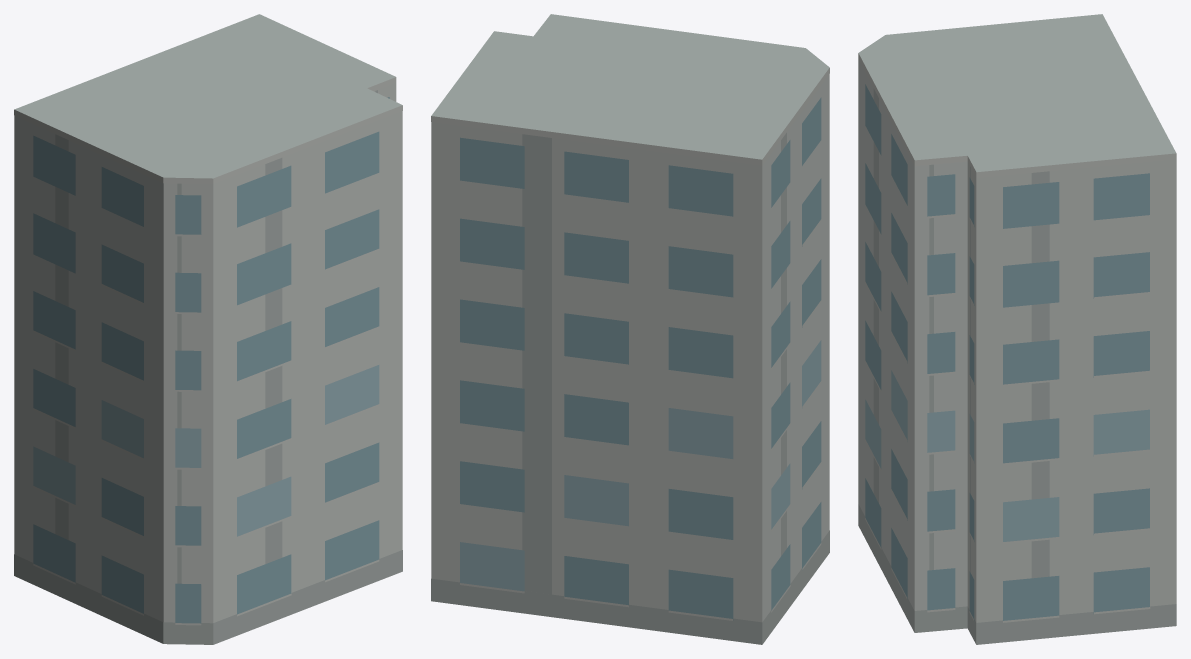
Rendered from survey-upis-32806577.glb.
3 renders of one model, left to right at view 1: azimuth 30°, elevation 25°; view 2: azimuth 150°, elevation 25°; view 3: azimuth 270°, elevation 25°, orthographic. The views are drawn at different scales.
Parts seen in each view (by area): view 1: survey-upis-32806577.tmp; view 2: survey-upis-32806577.tmp; view 3: survey-upis-32806577.tmp.
Boxes of the visible parts, x1=… form: survey-upis-32806577.tmp: x1=14, y1=14, x2=402, y2=644; survey-upis-32806577.tmp: x1=431, y1=14, x2=829, y2=644; survey-upis-32806577.tmp: x1=858, y1=14, x2=1176, y2=644.
Size of the model in its own units: 13.95 by 19.42 by 11.86.
